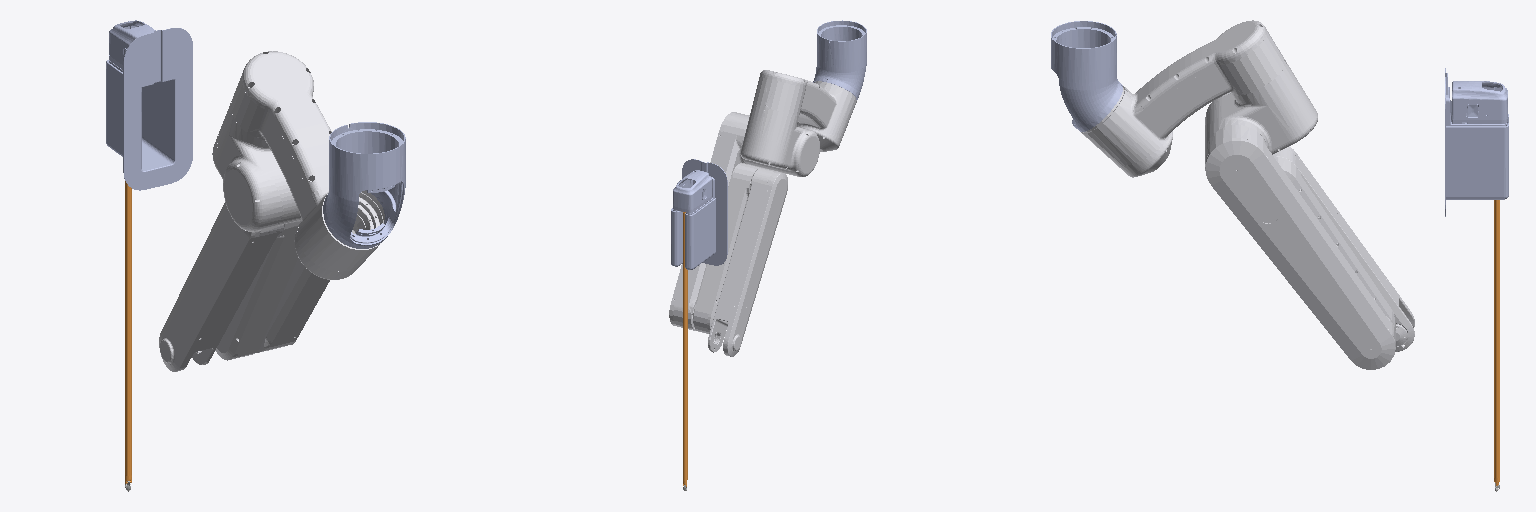
URDF robot description (RCM):
<?xml version="1.0" encoding="utf-8"?>
<!-- This URDF was automatically created by SolidWorks to URDF Exporter! Originally created by [author] ([email redacted]) 
     Commit Version: 1.6.0-4-g7f85cfe  Build Version: 1.6.7995.38578
     For more information, please see http://wiki.ros.org/sw_urdf_exporter -->
<robot
  name="RCM">
  <mujoco>
	<compiler
	meshdir="meshes/"
	balanceinertia="true"
	discardvisual="false"/>
  </mujoco>
  <link
    name="base_link">
    <inertial>
      <origin
        xyz="-3.55026381058344E-06 0.00550733128402257 0.0300618792019448"
        rpy="0 0 0" />
      <mass
        value="0.569347319182752" />
      <inertia
        ixx="0.00109371895655507"
        ixy="5.49074740443166E-08"
        ixz="-5.88196633776266E-08"
        iyy="0.00126777267526231"
        iyz="5.03099743142388E-05"
        izz="0.000985512128151039" />
    </inertial>
    <visual>
      <origin
        xyz="0 0 0"
        rpy="0 0 0" />
      <geometry>
        <mesh
          filename="package://RCM/meshes/base_link.STL" />
      </geometry>
      <material
        name="">
        <color
          rgba="0.792156862745098 0.819607843137255 0.933333333333333 1" />
      </material>
    </visual>
    <collision>
      <origin
        xyz="0 0 0"
        rpy="0 0 0" />
      <geometry>
        <mesh
          filename="package://RCM/meshes/base_link.STL" />
      </geometry>
    </collision>
  </link>
  <link
    name="Link0">
    <inertial>
      <origin
        xyz="-2.54650900305582E-06 -0.08001857737714 -0.729613247884737"
        rpy="0 0 0" />
      <mass
        value="1.29796492890445" />
      <inertia
        ixx="0.00897219495227951"
        ixy="-7.07961881849956E-08"
        ixz="-1.35975222903254E-08"
        iyy="0.00173255351350172"
        iyz="0.00192570476455597"
        izz="0.00907434088953874" />
    </inertial>
    <visual>
      <origin
        xyz="0 0 0"
        rpy="0 0 0" />
      <geometry>
        <mesh
          filename="package://RCM/meshes/Link0.STL" />
      </geometry>
      <material
        name="">
        <color
          rgba="0.890196078431372 0.890196078431372 0.913725490196078 1" />
      </material>
    </visual>
    <collision>
      <origin
        xyz="0 0 0"
        rpy="0 0 0" />
      <geometry>
        <mesh
          filename="package://RCM/meshes/Link0.STL" />
      </geometry>
    </collision>
  </link>
  <joint
    name="Jnt0"
    type="revolute">
    <origin
      xyz="0 0.58679 -0.58679"
      rpy="-2.3562 0 0" />
    <parent
      link="base_link" />
    <child
      link="Link0" />
    <axis
      xyz="0 0 1" />
    <limit
      lower="0"
      upper="0"
      effort="0"
      velocity="0" />
  </joint>
  <link
    name="Link1">
    <inertial>
      <origin
        xyz="0.0433003490678131 -0.0432003299428615 -0.265573902493684"
        rpy="0 0 0" />
      <mass
        value="1.90950167176229" />
      <inertia
        ixx="0.0137511253534101"
        ixy="0.000378931959004363"
        ixz="0.000518458528909388"
        iyy="0.015495674898506"
        iyz="0.000223322419035585"
        izz="0.00367280955093209" />
    </inertial>
    <visual>
      <origin
        xyz="0 0 0"
        rpy="0 0 0" />
      <geometry>
        <mesh
          filename="package://RCM/meshes/Link1.STL" />
      </geometry>
      <material
        name="">
        <color
          rgba="0.890196078431372 0.890196078431372 0.913725490196078 1" />
      </material>
    </visual>
    <collision>
      <origin
        xyz="0 0 0"
        rpy="0 0 0" />
      <geometry>
        <mesh
          filename="package://RCM/meshes/Link1.STL" />
      </geometry>
    </collision>
  </link>
  <joint
    name="Jnt1"
    type="revolute">
    <origin
      xyz="0 -0.082153 -0.2865"
      rpy="0 0.27925 1.5708" />
    <parent
      link="Link0" />
    <child
      link="Link1" />
    <axis
      xyz="0 0 -1" />
    <limit
      lower="0"
      upper="0"
      effort="0"
      velocity="0" />
  </joint>
  <link
    name="Link2">
    <inertial>
      <origin
        xyz="0.122242509099898 -0.000122639073563552 0.046093195557778"
        rpy="0 0 0" />
      <mass
        value="0.66050398134571" />
      <inertia
        ixx="0.000464794628729519"
        ixy="-8.98588721086837E-06"
        ixz="0.000293963398731807"
        iyy="0.00539967705508899"
        iyz="3.68737420247472E-07"
        izz="0.00567970088919585" />
    </inertial>
    <visual>
      <origin
        xyz="0 0 0"
        rpy="0 0 0" />
      <geometry>
        <mesh
          filename="package://RCM/meshes/Link2.STL" />
      </geometry>
      <material
        name="">
        <color
          rgba="0.890196078431372 0.890196078431372 0.913725490196078 1" />
      </material>
    </visual>
    <collision>
      <origin
        xyz="0 0 0"
        rpy="0 0 0" />
      <geometry>
        <mesh
          filename="package://RCM/meshes/Link2.STL" />
      </geometry>
    </collision>
  </link>
  <joint
    name="Jnt2"
    type="revolute">
    <origin
      xyz="0.03927 0 0"
      rpy="1.5708 1.5348 0" />
    <parent
      link="Link1" />
    <child
      link="Link2" />
    <axis
      xyz="0 0 1" />
    <limit
      lower="0"
      upper="0"
      effort="0"
      velocity="0" />
  </joint>
  <link
    name="Link3">
    <inertial>
      <origin
        xyz="0.139102854653006 -1.28016398992514E-06 0.00703790674954966"
        rpy="0 0 0" />
      <mass
        value="0.570889755345908" />
      <inertia
        ixx="0.000307286110608487"
        ixy="2.66265658856102E-06"
        ixz="2.04451761713783E-05"
        iyy="0.00616711309986316"
        iyz="-6.72843632018559E-08"
        izz="0.00638097431293993" />
    </inertial>
    <visual>
      <origin
        xyz="0 0 0"
        rpy="0 0 0" />
      <geometry>
        <mesh
          filename="package://RCM/meshes/Link3.STL" />
      </geometry>
      <material
        name="">
        <color
          rgba="0.890196078431372 0.890196078431372 0.913725490196078 1" />
      </material>
    </visual>
    <collision>
      <origin
        xyz="0 0 0"
        rpy="0 0 0" />
      <geometry>
        <mesh
          filename="package://RCM/meshes/Link3.STL" />
      </geometry>
    </collision>
  </link>
  <joint
    name="Jnt3"
    type="revolute">
    <origin
      xyz="0.26 0 0"
      rpy="0 0 -3.0867" />
    <parent
      link="Link2" />
    <child
      link="Link3" />
    <axis
      xyz="0 0 -1" />
    <limit
      lower="0"
      upper="0"
      effort="0"
      velocity="0" />
  </joint>
  <link
    name="Link4">
    <inertial>
      <origin
        xyz="0.0475481775916024 0.126716285367895 0.000829190326008697"
        rpy="0 0 0" />
      <mass
        value="0.790150880039277" />
      <inertia
        ixx="0.0121960334754081"
        ixy="-0.00054697267775174"
        ixz="-2.65826899603759E-06"
        iyy="0.000394795027734286"
        iyz="2.31044457932793E-05"
        izz="0.012235992063709" />
    </inertial>
    <visual>
      <origin
        xyz="0 0 0"
        rpy="0 0 0" />
      <geometry>
        <mesh
          filename="package://RCM/meshes/Link4.STL" />
      </geometry>
      <material
        name="">
        <color
          rgba="1 1 1 1" />
      </material>
    </visual>
    <collision>
      <origin
        xyz="0 0 0"
        rpy="0 0 0" />
      <geometry>
        <mesh
          filename="package://RCM/meshes/Link4.STL" />
      </geometry>
    </collision>
  </link>
  <joint
    name="Jnt4"
    type="revolute">
    <origin
      xyz="0.3 0 0"
      rpy="0 0 0.97374" />
    <parent
      link="Link3" />
    <child
      link="Link4" />
    <axis
      xyz="0 0 -1" />
    <limit
      lower="0"
      upper="0"
      effort="0"
      velocity="0" />
  </joint>
  <link
    name="Link5">
    <inertial>
      <origin
        xyz="-0.0348407521234421 5.78754284950121E-05 0.0141109299625937"
        rpy="0 0 0" />
      <mass
        value="0.11270505297095" />
      <inertia
        ixx="0.000187830767701777"
        ixy="-6.63198720571695E-08"
        ixz="-2.56510862170043E-05"
        iyy="0.000244226611493622"
        iyz="4.79367230562321E-08"
        izz="0.000146126047218424" />
    </inertial>
    <visual>
      <origin
        xyz="0 0 0"
        rpy="0 0 0" />
      <geometry>
        <mesh
          filename="package://RCM/meshes/Link5.STL" />
      </geometry>
      <material
        name="">
        <color
          rgba="0.792156862745098 0.819607843137255 0.933333333333333 1" />
      </material>
    </visual>
    <collision>
      <origin
        xyz="0 0 0"
        rpy="0 0 0" />
      <geometry>
        <mesh
          filename="package://RCM/meshes/Link5.STL" />
      </geometry>
    </collision>
  </link>
  <joint
    name="Jnt5"
    type="prismatic">
    <origin
      xyz="0.14434 0.32692 0"
      rpy="1.5708 0 0" />
    <parent
      link="Link4" />
    <child
      link="Link5" />
    <axis
      xyz="0 0 -1" />
    <limit
      lower="0"
      upper="0"
      effort="0"
      velocity="0" />
  </joint>
  <link
    name="Link6">
    <inertial>
      <origin
        xyz="-1.30167493450628E-08 -4.25481789854864E-07 -0.301238207336137"
        rpy="0 0 0" />
      <mass
        value="0.0387995768159099" />
      <inertia
        ixx="0.000933899296992518"
        ixy="-2.45331922502117E-12"
        ixz="-8.62426458561821E-10"
        iyy="0.000933894812095895"
        iyz="-1.93203571788671E-12"
        izz="5.73869225015481E-07" />
    </inertial>
    <visual>
      <origin
        xyz="0 0 0"
        rpy="0 0 0" />
      <geometry>
        <mesh
          filename="package://RCM/meshes/Link6.STL" />
      </geometry>
      <material
        name="">
        <color
          rgba="1 0.682352941176471 0.341176470588235 1" />
      </material>
    </visual>
    <collision>
      <origin
        xyz="0 0 0"
        rpy="0 0 0" />
      <geometry>
        <mesh
          filename="package://RCM/meshes/Link6.STL" />
      </geometry>
    </collision>
  </link>
  <joint
    name="Jnt6"
    type="revolute">
    <origin
      xyz="0 0 0.5695"
      rpy="0 0 0" />
    <parent
      link="Link5" />
    <child
      link="Link6" />
    <axis
      xyz="0 0 -1" />
    <limit
      lower="0"
      upper="0"
      effort="0"
      velocity="0" />
  </joint>
  <link
    name="Link7">
    <inertial>
      <origin
        xyz="0.00414530890681186 -8.70497384386493E-06 2.03774437610949E-09"
        rpy="0 0 0" />
      <mass
        value="0.00138513039451312" />
      <inertia
        ixx="8.38651085794464E-09"
        ixy="1.51622603066724E-13"
        ixz="-2.32743867689313E-14"
        iyy="1.40926564206799E-08"
        iyz="-5.80430962582051E-10"
        izz="1.84266520411577E-08" />
    </inertial>
    <visual>
      <origin
        xyz="0 0 0"
        rpy="0 0 0" />
      <geometry>
        <mesh
          filename="package://RCM/meshes/Link7.STL" />
      </geometry>
      <material
        name="">
        <color
          rgba="0.752941176470588 0.752941176470588 0.752941176470588 1" />
      </material>
    </visual>
    <collision>
      <origin
        xyz="0 0 0"
        rpy="0 0 0" />
      <geometry>
        <mesh
          filename="package://RCM/meshes/Link7.STL" />
      </geometry>
    </collision>
  </link>
  <joint
    name="Jnt7"
    type="revolute">
    <origin
      xyz="0 0 0"
      rpy="1.5708 -1.5708 0" />
    <parent
      link="Link6" />
    <child
      link="Link7" />
    <axis
      xyz="0 0 1" />
    <limit
      lower="0"
      upper="0"
      effort="0"
      velocity="0" />
  </joint>
  <link
    name="Link8">
    <inertial>
      <origin
        xyz="-2.33987732897201E-11 0.00279860077040484 1.67310609811011E-11"
        rpy="0 0 0" />
      <mass
        value="0.000935187112721102" />
      <inertia
        ixx="9.25800624005218E-09"
        ixy="1.01630507733332E-17"
        ixz="-8.40913296878001E-11"
        iyy="1.60403656034617E-09"
        iyz="6.19049333871099E-18"
        izz="1.02126941780705E-08" />
    </inertial>
    <visual>
      <origin
        xyz="0 0 0"
        rpy="0 0 0" />
      <geometry>
        <mesh
          filename="package://RCM/meshes/Link8.STL" />
      </geometry>
      <material
        name="">
        <color
          rgba="0.752941176470588 0.752941176470588 0.752941176470588 1" />
      </material>
    </visual>
    <collision>
      <origin
        xyz="0 0 0"
        rpy="0 0 0" />
      <geometry>
        <mesh
          filename="package://RCM/meshes/Link8.STL" />
      </geometry>
    </collision>
  </link>
  <joint
    name="Jnt8"
    type="revolute">
    <origin
      xyz="0.009 0 0"
      rpy="1.5708 -1.5708 0" />
    <parent
      link="Link7" />
    <child
      link="Link8" />
    <axis
      xyz="0 0 1" />
    <limit
      lower="0"
      upper="0"
      effort="0"
      velocity="0" />
  </joint>
</robot>

--- Facts derived from the render (not from the file) ---
Views: 3 orthographic renders of the robot side by side, from view 1: azimuth 30°, elevation 25°; view 2: azimuth 150°, elevation 25°; view 3: azimuth 270°, elevation 25°.
Robot: RCM — 10 links, 9 joints (8 revolute, 1 prismatic); root link base_link; default pose: every joint at zero.
Links seen in each view (by area): view 1: Link0, Link5, Link3, Link1, base_link, Link2, Link6; view 2: Link1, Link3, Link5, Link0, base_link, Link2, Link6; view 3: Link1, Link0, Link5, base_link, Link3, Link2, Link6.
Boxes of the visible links, <box> form: Link0: <box>231,51,384,279</box>; Link5: <box>106,20,192,190</box>; Link3: <box>159,202,283,371</box>; Link1: <box>212,98,329,352</box>; base_link: <box>323,122,405,248</box>; Link2: <box>215,220,301,360</box>; Link6: <box>125,181,131,483</box>; Link1: <box>669,105,819,330</box>; Link3: <box>708,168,787,356</box>; Link5: <box>671,159,727,269</box>; Link0: <box>753,70,856,151</box>; base_link: <box>813,20,866,99</box>; Link2: <box>693,163,760,333</box>; Link6: <box>683,212,687,486</box>; Link1: <box>1205,60,1395,369</box>; Link0: <box>1081,20,1285,177</box>; Link5: <box>1445,68,1508,216</box>; base_link: <box>1051,21,1122,131</box>; Link3: <box>1273,146,1414,351</box>; Link2: <box>1274,157,1395,331</box>; Link6: <box>1494,200,1499,485</box>.
Bounding box of the posed robot: 0.18 × 0.6507 × 0.7297 m (x, y, z).
9 mesh visuals loaded from 10 distinct referenced files (9 binary STL); not drawn: 1 (reference not matched to a file when rendering).